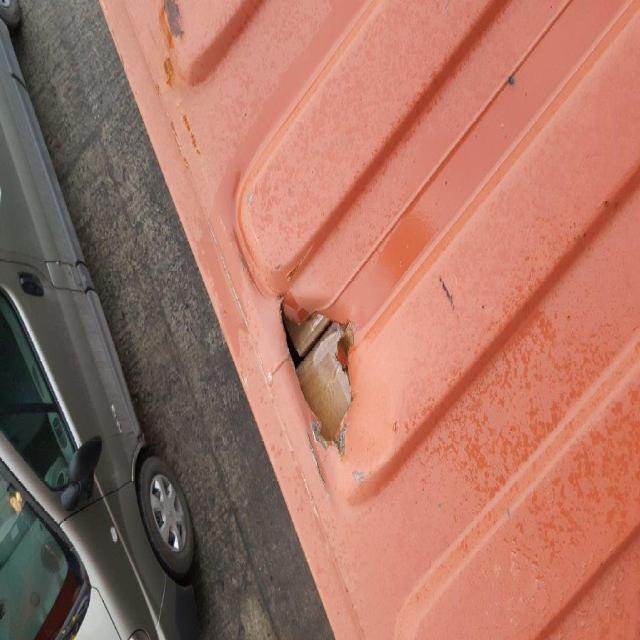hole: (279, 293, 355, 460), (304, 429, 328, 493)
